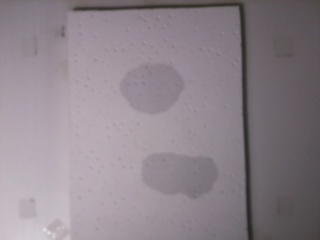Water_detected: (148, 151, 211, 192), (125, 71, 180, 113)
